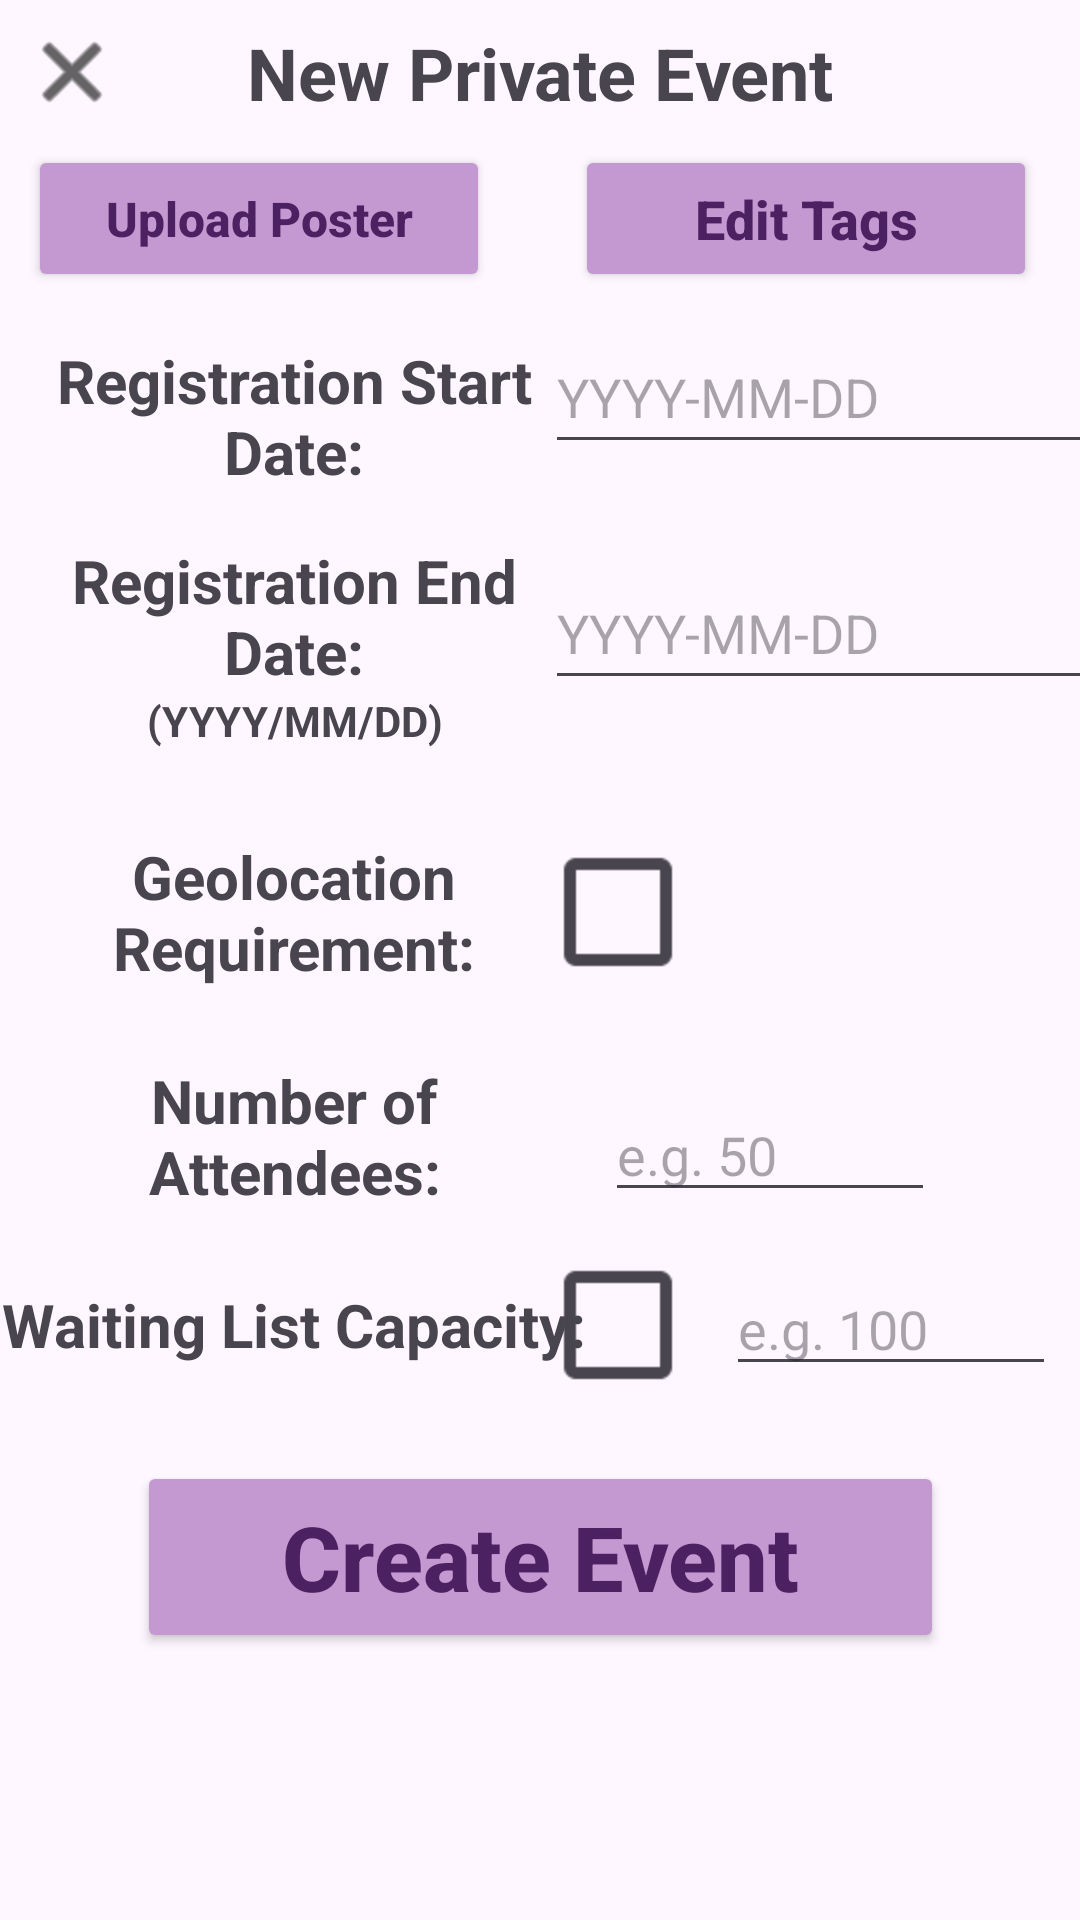

Point at icon controls on the screen. Image size 1080*1920, points as (x,y).
close clear cancel: (72,72)
